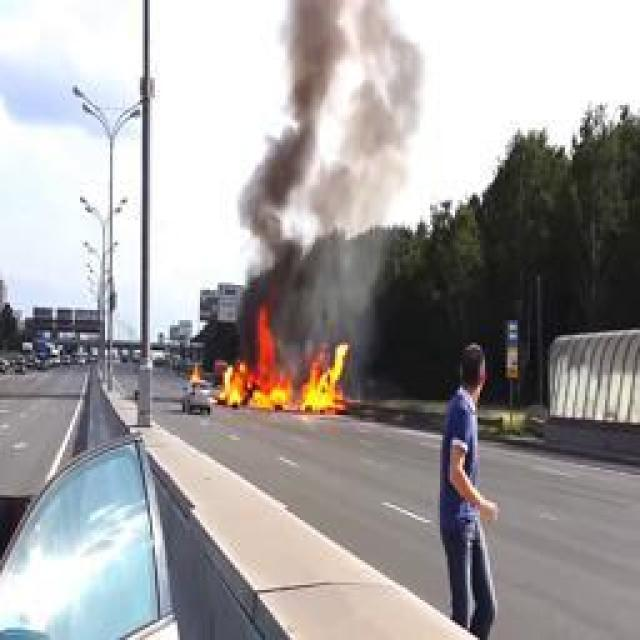Fire: (218, 306, 350, 412)
